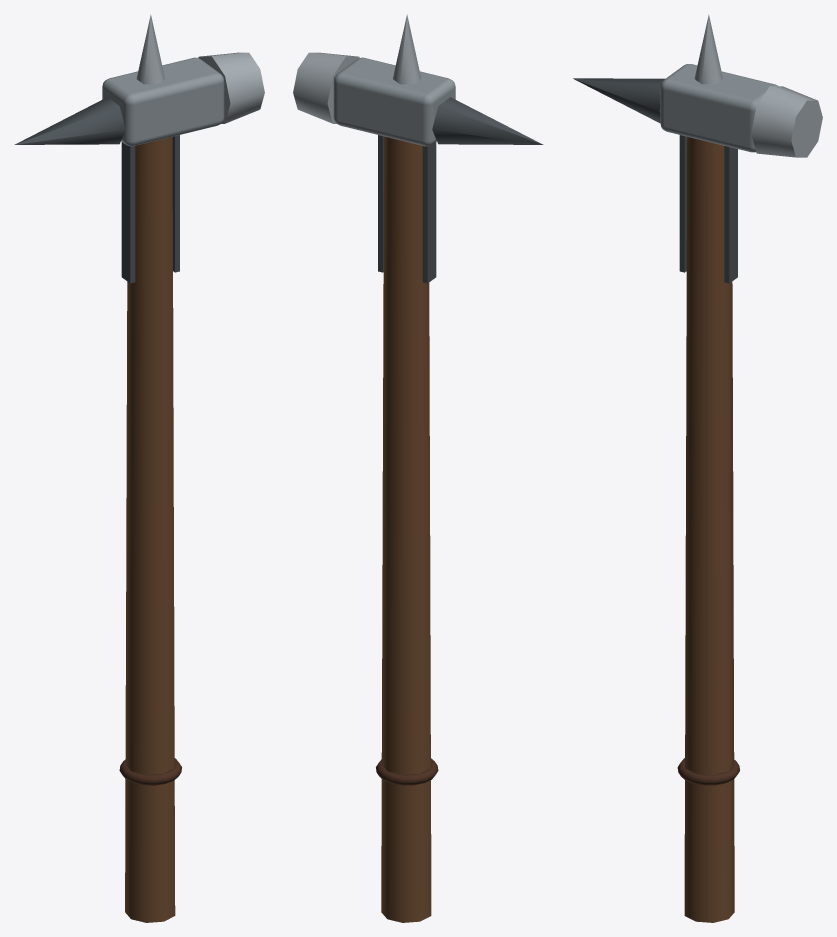
File: warhammer.glb
The picture shows the model from 3 angles, left to right: view 1: azimuth 30°, elevation 25°; view 2: azimuth 150°, elevation 25°; view 3: azimuth 330°, elevation 25°; orthographic projection.
Parts seen in each view (by area): view 1: warhammer-grip, warhammer-head, warhammer-langet (×2), warhammer-peen, warhammer-face, warhammer-top-spike, warhammer-grip-wrap; view 2: warhammer-grip, warhammer-head, warhammer-peen, warhammer-langet (×2), warhammer-face, warhammer-top-spike, warhammer-grip-wrap; view 3: warhammer-grip, warhammer-head, warhammer-face, warhammer-langet (×2), warhammer-peen, warhammer-top-spike, warhammer-grip-wrap.
Boxes of the visible parts, x1,y1,x2,y2 form: warhammer-grip: [125, 137, 175, 922]; warhammer-head: [102, 57, 224, 146]; warhammer-langet (×2): [121, 135, 179, 283]; warhammer-peen: [14, 97, 125, 144]; warhammer-face: [198, 52, 264, 123]; warhammer-top-spike: [136, 14, 164, 84]; warhammer-grip-wrap: [119, 758, 181, 785]; warhammer-grip: [381, 136, 431, 922]; warhammer-head: [333, 57, 455, 146]; warhammer-peen: [432, 97, 543, 144]; warhammer-langet (×2): [378, 135, 436, 283]; warhammer-face: [293, 52, 359, 123]; warhammer-top-spike: [393, 14, 421, 84]; warhammer-grip-wrap: [376, 758, 438, 785]; warhammer-grip: [684, 137, 734, 922]; warhammer-head: [660, 64, 778, 152]; warhammer-face: [751, 86, 822, 157]; warhammer-langet (×2): [679, 135, 737, 283]; warhammer-peen: [573, 78, 665, 122]; warhammer-top-spike: [694, 14, 722, 84]; warhammer-grip-wrap: [677, 758, 739, 785].
Bounding box in the file's own units: 0.147 × 0.5367 × 0.0404.
